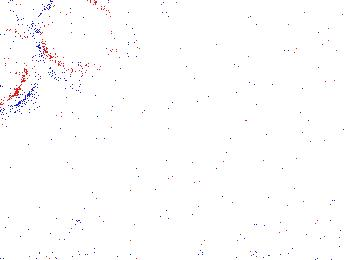moon jellyfish: (39, 1, 126, 85), (275, 15, 346, 84), (1, 30, 44, 111)
